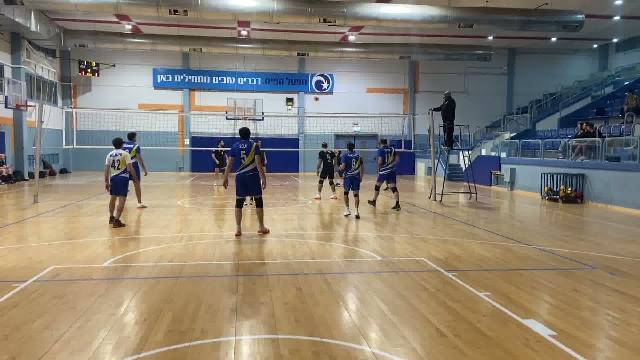ball: (313, 96, 318, 102)
